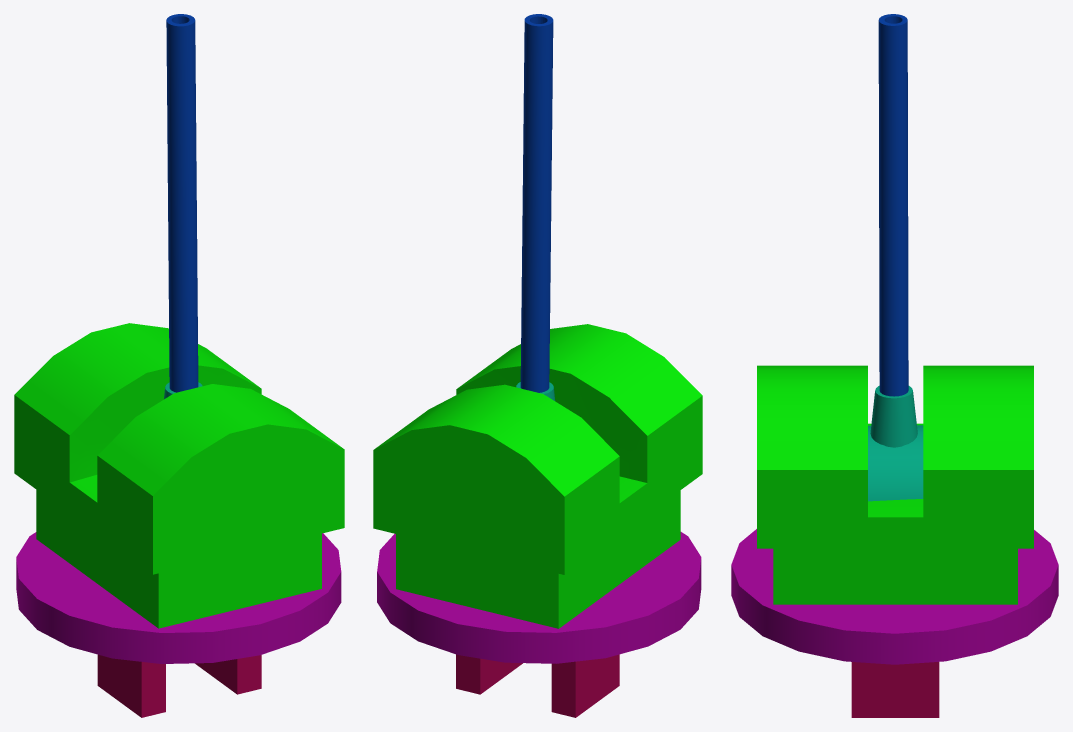
File: Turret2Axis.fbx
The picture shows the model from 3 angles, left to right: view 1: azimuth 30°, elevation 25°; view 2: azimuth 150°, elevation 25°; view 3: azimuth 270°, elevation 25°; orthographic projection.
Parts seen in each view (by area): view 1: pPlane6, DuolBotsSlots1:pCube8, Barrel; view 2: pPlane6, DuolBotsSlots1:pCube8, Barrel; view 3: pPlane6, DuolBotsSlots1:pCube8, Barrel, TurretY.
Part boxes in pixels (bbox=[...]): pPlane6: bbox=[14, 323, 344, 628]; DuolBotsSlots1:pCube8: bbox=[16, 532, 341, 717]; Barrel: bbox=[164, 14, 202, 399]; pPlane6: bbox=[373, 324, 702, 628]; DuolBotsSlots1:pCube8: bbox=[377, 532, 701, 717]; Barrel: bbox=[516, 14, 555, 400]; pPlane6: bbox=[757, 365, 1033, 604]; DuolBotsSlots1:pCube8: bbox=[731, 529, 1058, 717]; Barrel: bbox=[870, 14, 917, 447]; TurretY: bbox=[868, 425, 923, 501].
Size of the model in its own units: 1.97 by 4.44 by 1.97.
